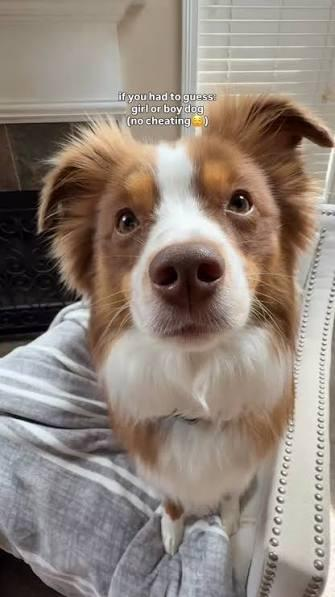adult_dog: (35, 89, 335, 557)
